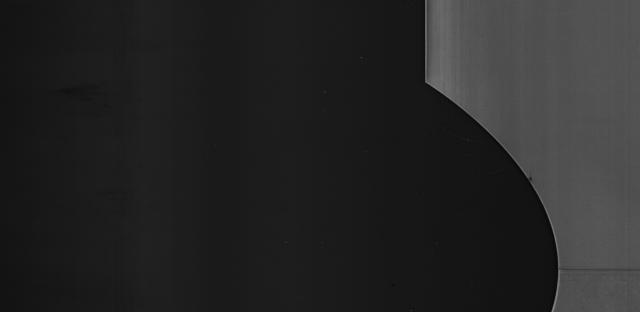crescent_gap: (400, 65, 568, 312)
welding_line: (548, 261, 640, 284)
